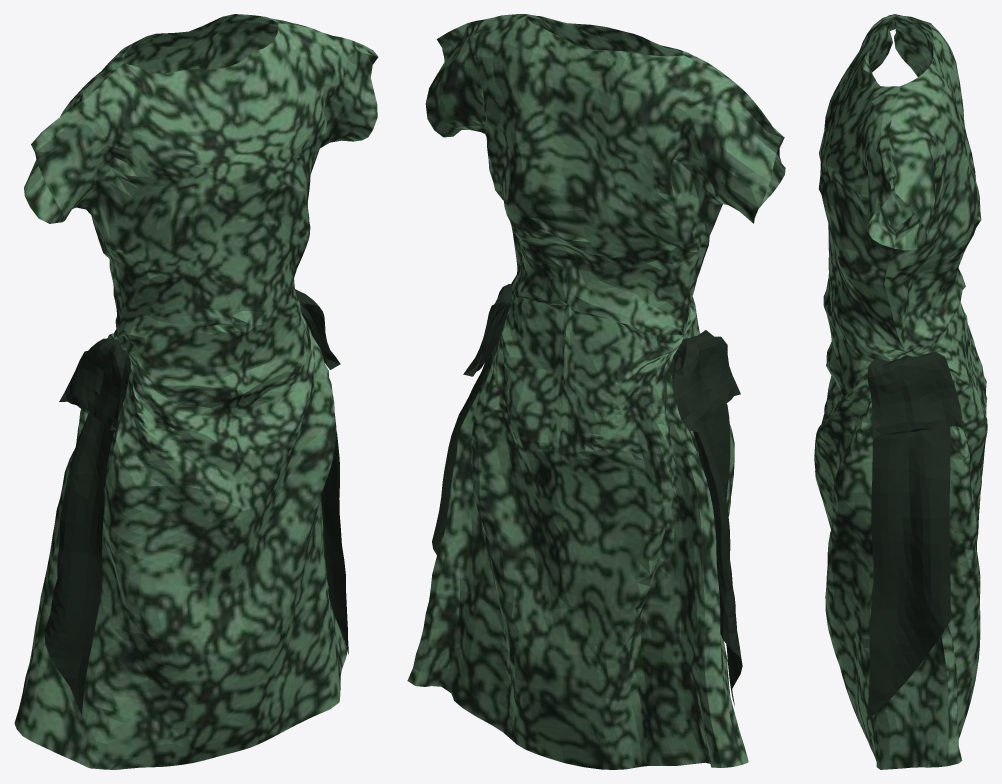
The model's file is mhw_aethelraed_flapper_dress.glb.
3 renders of one model, left to right at view 1: azimuth 30°, elevation 25°; view 2: azimuth 150°, elevation 25°; view 3: azimuth 270°, elevation 25°, orthographic. The views are drawn at different scales.
Visible parts, largest first — view 1: mhw_aethelraed_flapper_dress; view 2: mhw_aethelraed_flapper_dress; view 3: mhw_aethelraed_flapper_dress.
Boxes of the visible parts, x1=… form: mhw_aethelraed_flapper_dress: x1=14, y1=14, x2=378, y2=769; mhw_aethelraed_flapper_dress: x1=407, y1=14, x2=785, y2=769; mhw_aethelraed_flapper_dress: x1=814, y1=14, x2=987, y2=769.
Size of the model in its own units: 0.6934 by 1.38 by 0.3163.
Materials: 1 (1 with a texture image).
